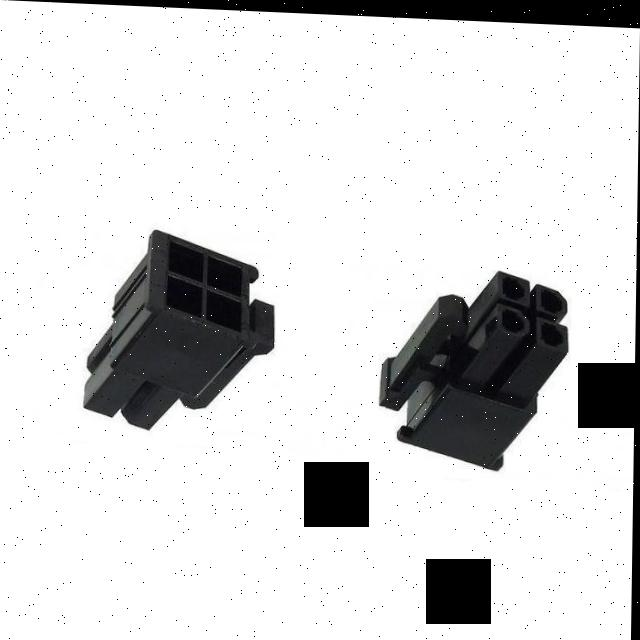connector: (356, 230, 591, 486)
